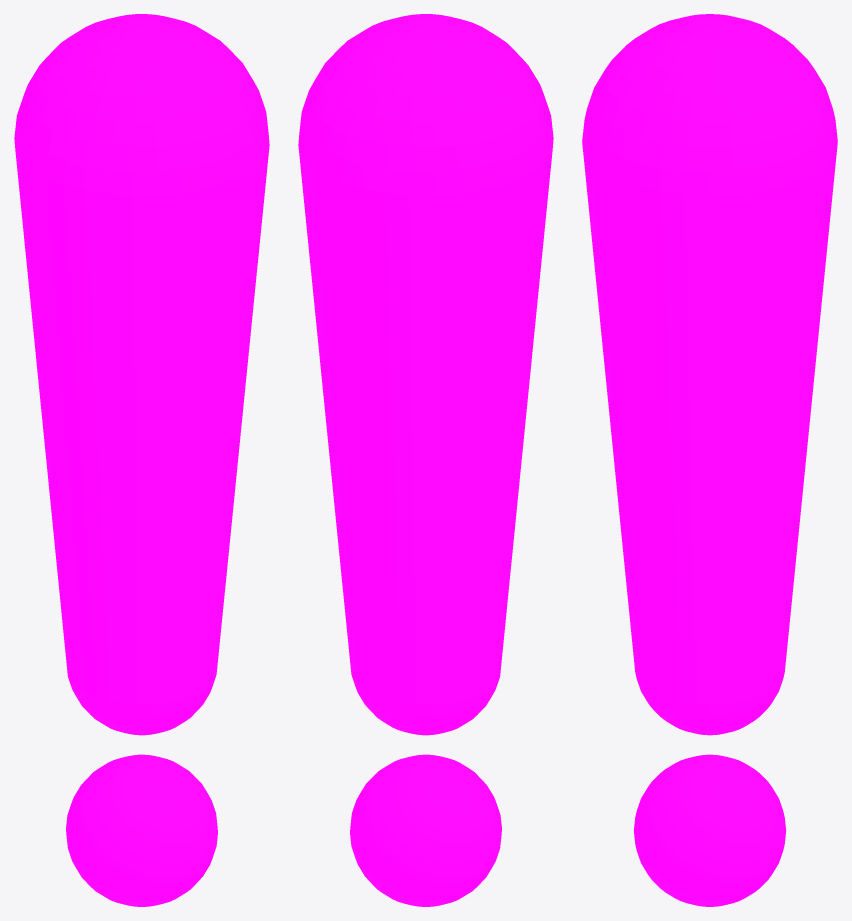
Rendered from mark01.fbx.
3 views of the same model, side by side, from view 1: azimuth 30°, elevation 25°; view 2: azimuth 150°, elevation 25°; view 3: azimuth 270°, elevation 25° (orthographic).
Visible parts, largest first — view 1: Sphere.001, Sphere; view 2: Sphere.001, Sphere; view 3: Sphere.001, Sphere.
Boxes of the visible parts, bbox=[...] form: Sphere.001: bbox=[14, 14, 269, 735]; Sphere: bbox=[66, 754, 217, 906]; Sphere.001: bbox=[298, 14, 553, 735]; Sphere: bbox=[350, 754, 501, 906]; Sphere.001: bbox=[582, 14, 837, 735]; Sphere: bbox=[633, 754, 786, 906].
Size of the model in its own units: 336 by 1265 by 336.
